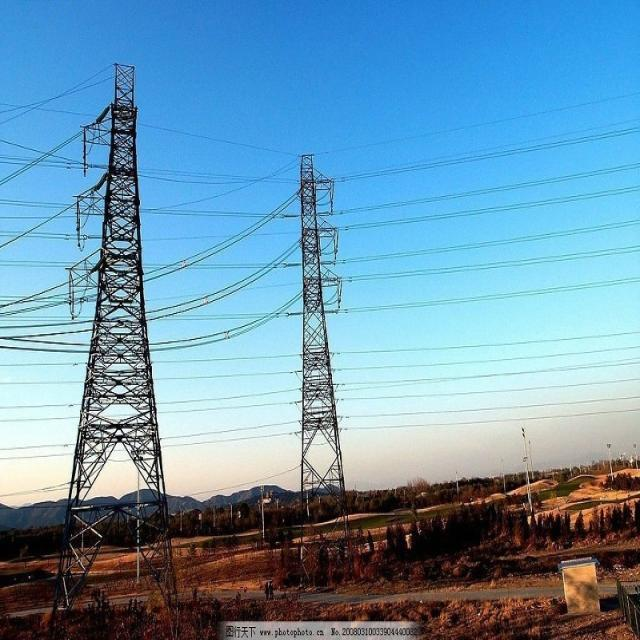non-critical vegetation: (58, 75, 188, 610), (270, 158, 358, 530)
